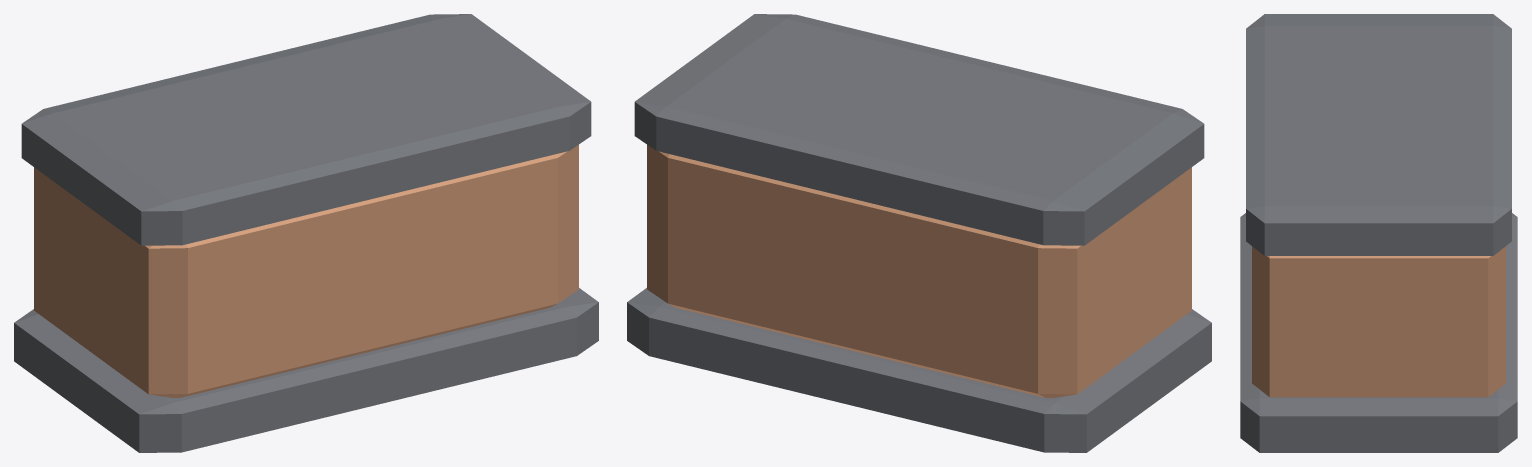
File: b11_rectangular_cedar_patio_table.glb
3 renders of one model, left to right at view 1: azimuth 30°, elevation 25°; view 2: azimuth 150°, elevation 25°; view 3: azimuth 270°, elevation 25°, orthographic. The views are drawn at different scales.
Parts seen in each view (by area): view 1: b11_rectangular_cedar_patio_table; view 2: b11_rectangular_cedar_patio_table; view 3: b11_rectangular_cedar_patio_table.
Boxes of the visible parts, x1=… form: b11_rectangular_cedar_patio_table: x1=14, y1=14, x2=598, y2=452; b11_rectangular_cedar_patio_table: x1=627, y1=14, x2=1211, y2=452; b11_rectangular_cedar_patio_table: x1=1240, y1=14, x2=1517, y2=452.
Size of the model in its own units: 1.55 by 0.787 by 0.85.
